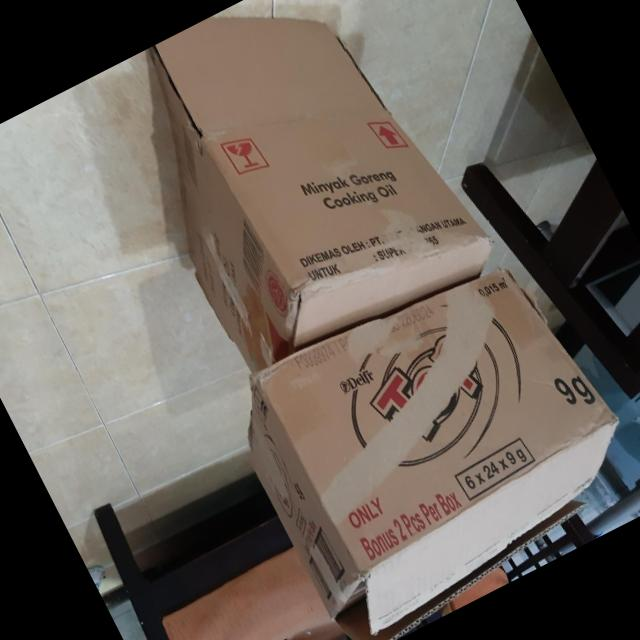Kardus: (214, 234, 640, 640), (93, 0, 507, 394)
